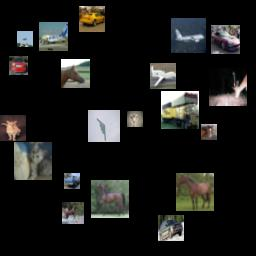airplane: (171, 18, 206, 53), (88, 110, 120, 142), (39, 22, 68, 51), (150, 63, 176, 89), (17, 31, 33, 47)
automobile: (211, 25, 240, 54), (158, 215, 184, 241), (79, 6, 105, 32), (9, 56, 28, 75), (64, 173, 80, 189)
bird: (127, 111, 143, 127)
cat: (14, 142, 52, 180), (0, 115, 26, 141)
deer: (209, 68, 247, 106)
truck: (161, 91, 199, 129)
